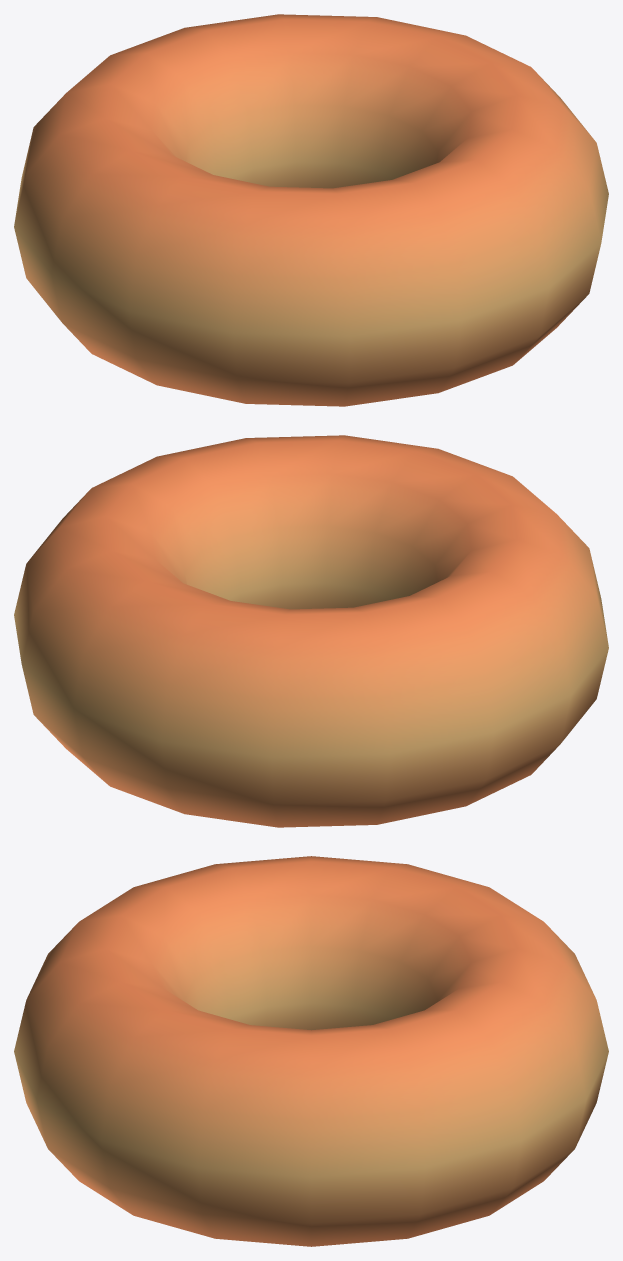
The model's file is Donut_V1_00.fbx.
3 renders of one model, top to bottom at view 1: azimuth 30°, elevation 25°; view 2: azimuth 150°, elevation 25°; view 3: azimuth 270°, elevation 25°, orthographic.
Parts seen in each view (by area): view 1: Donut_V1_00; view 2: Donut_V1_00; view 3: Donut_V1_00.
Part boxes in pixels (x1,y1,x2,y2): Donut_V1_00: (14,14,608,406); Donut_V1_00: (14,435,608,827); Donut_V1_00: (14,856,608,1246).
Size of the model in its own units: 40.77 by 15.54 by 40.77.
